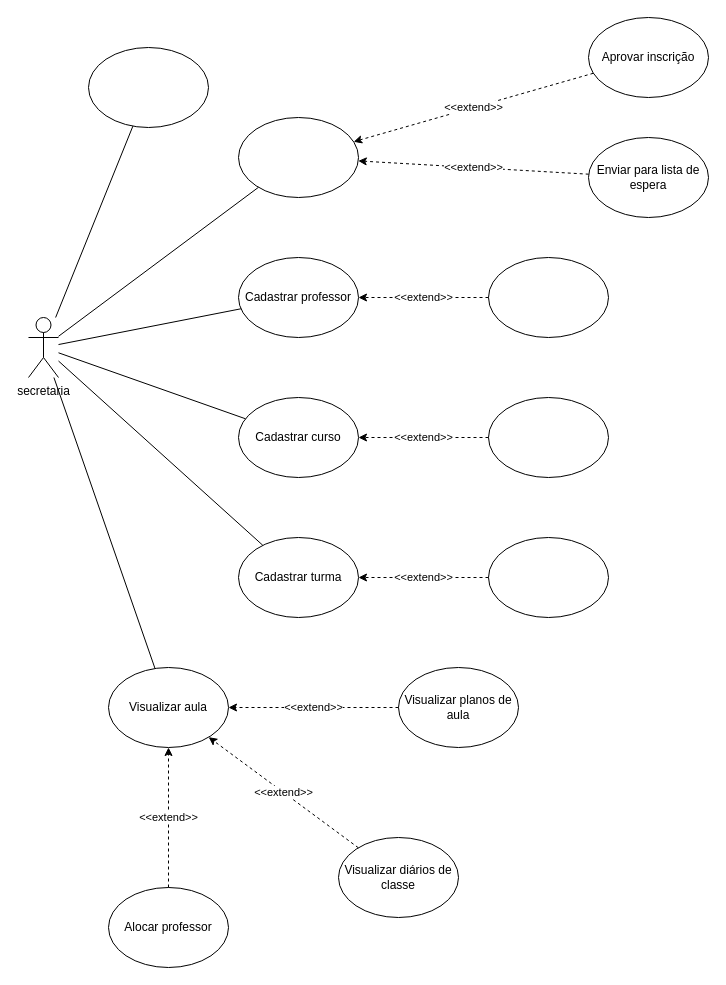
Image size: 726x985. Some labels were removed from this diagram. Here are the shapes that lost their labels. From the top down, the centre of each, then its label:
At [148,87]: "Realizar login".
At [298,157]: "Visualizar inscrições".
At [548,297]: "Editar professor".
At [548,437]: "Editar curso".
At [548,577]: "Editar turma".
